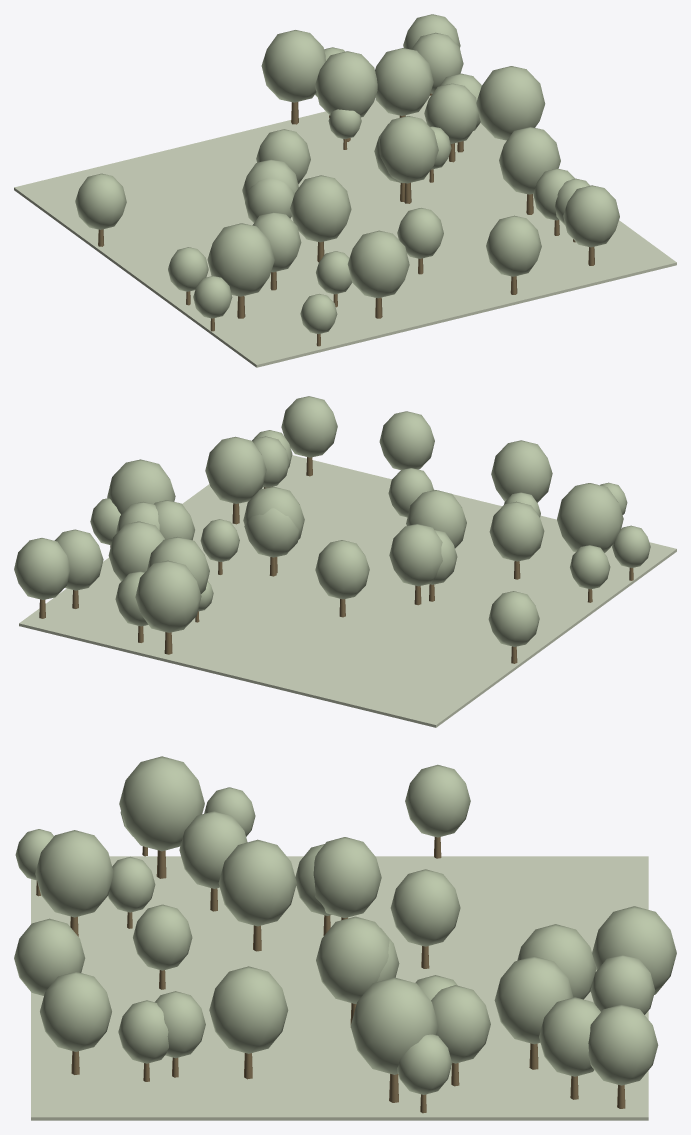
The picture shows the model from 3 angles, top to bottom: view 1: azimuth 30°, elevation 25°; view 2: azimuth 150°, elevation 25°; view 3: azimuth 270°, elevation 25°; orthographic projection. The views are drawn at different scales.
Parts seen in each view (by area): view 1: terrain, lod-near-13, lod-near-24, lod-near-6, lod-near-3, lod-near-9, lod-near-17, lod-near-22, lod-near-29, lod-near-7, lod-near-12, lod-near-23 (+16 smaller); view 2: terrain, lod-near-6, lod-near-24, lod-near-7, lod-near-3, lod-near-11, lod-near-12, lod-near-31, lod-near-23, lod-near-14, lod-near-19, lod-near-13 (+17 smaller); view 3: terrain, lod-near-24, lod-near-13, lod-near-7, lod-near-3, lod-near-22, lod-near-29, lod-near-17, lod-near-11, lod-near-12, lod-near-31, lod-near-6 (+17 smaller).
Boxes of the visible parts, <box> form: terrain: <box>14,95,676,367</box>; lod-near-13: <box>476,66,545,140</box>; lod-near-24: <box>207,223,274,296</box>; lod-near-6: <box>261,30,325,102</box>; lod-near-3: <box>347,230,409,298</box>; lod-near-9: <box>315,51,377,117</box>; lod-near-17: <box>375,48,433,115</box>; lod-near-22: <box>290,175,351,242</box>; lod-near-29: <box>379,116,438,183</box>; lod-near-7: <box>499,127,560,194</box>; lod-near-12: <box>563,185,619,247</box>; lod-near-23: <box>486,215,541,276</box>; terrain: <box>19,455,676,727</box>; lod-near-6: <box>135,560,201,632</box>; lod-near-24: <box>557,483,623,552</box>; lod-near-7: <box>205,436,266,503</box>; lod-near-3: <box>491,440,552,502</box>; lod-near-11: <box>14,538,69,599</box>; lod-near-12: <box>281,396,337,457</box>; lod-near-31: <box>389,524,442,586</box>; lod-near-23: <box>379,411,434,469</box>; lod-near-14: <box>489,501,544,561</box>; lod-near-19: <box>315,540,369,599</box>; lod-near-13: <box>107,459,175,514</box>; terrain: <box>31,856,648,1120</box>; lod-near-24: <box>119,756,204,851</box>; lod-near-13: <box>350,977,438,1074</box>; lod-near-7: <box>209,966,288,1053</box>; lod-near-3: <box>35,830,113,917</box>; lod-near-22: <box>218,839,296,926</box>; lod-near-29: <box>316,916,389,1003</box>; lod-near-17: <box>494,956,573,1044</box>; lod-near-11: <box>588,1004,658,1085</box>; lod-near-12: <box>40,971,111,1051</box>; lod-near-31: <box>313,837,381,917</box>; lod-near-6: <box>592,906,676,994</box>.
Bounding box in the file's own units: 34.42 × 7.19 × 34.35.
